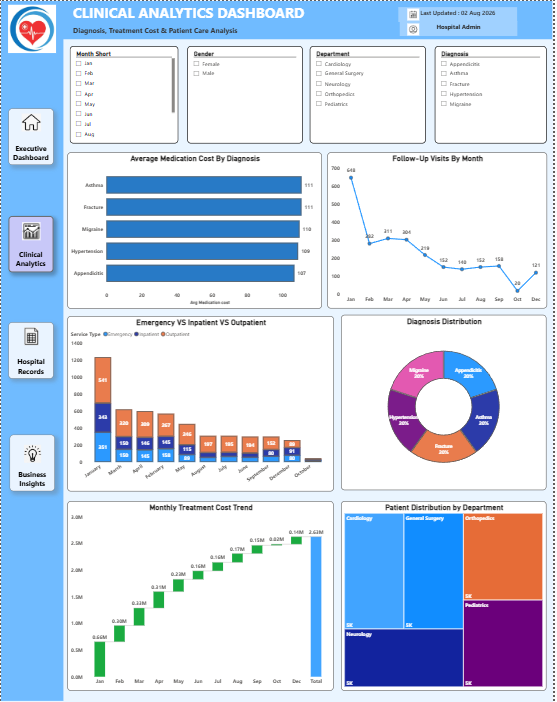

This screenshot's page, from the dashboard's own definition file:
{"tool":"powerbi","page":{"name":"Clinical Analytics","canvas":[1470,1870],"ordinal":1},"visuals":[{"type":"group","id":"g1","title":"Group 1","box":[184,120,1270,260],"z":0,"group":"g3"},{"type":"slicer","fields":{"Values":["Date Table.Month Short"]},"box":[184,120,290,260],"z":0,"group":"g1"},{"type":"clusteredBarChart","title":"Average Medication Cost By Diagnosis","fields":{"Category":["diagnoses.Diagnosis"],"Y":["DAX Measures.Avg Medication cost"]},"box":[177.4,403.2,679,417.7],"z":0,"group":"g2"},{"type":"group","id":"g2","title":"Group 2","box":[0,0,1470,1866.7],"z":1000,"group":"g3"},{"type":"shape","box":[0,80,166.7,1786.7],"z":1000,"group":"g2"},{"type":"slicer","fields":{"Values":["providers.Gender"]},"box":[495.7,120,308.1,259.7],"z":1000,"group":"g1"},{"type":"shape","box":[0,0,1470,102],"z":2000,"group":"g2"},{"type":"slicer","fields":{"Values":["departments.Department"]},"box":[825.5,120,309.7,259.7],"z":2000,"group":"g1"},{"type":"slicer","fields":{"Values":["diagnoses.Diagnosis"]},"box":[1157,120,298.4,259.7],"z":3000,"group":"g1"},{"type":"waterfallChart","title":"Monthly Treatment Cost Trend","fields":{"Category":["Date Table.Month Short"],"Y":["DAX Measures.Total Treatment Cost"]},"box":[176,1332,710,506],"z":3000,"group":"g2"},{"type":"textbox","box":[177.1,0,747.1,72.9],"z":4000,"group":"g2"},{"type":"donutChart","title":"Diagnosis Distribution","fields":{"Y":["DAX Measures.Total Patients"],"Category":["diagnoses.Diagnosis"]},"box":[906,838,548,468],"z":5000,"group":"g2"},{"type":"textbox","box":[176.7,60,571.7,41.7],"z":6000,"group":"g2"},{"type":"treemap","title":"Patient Distribution by Department","fields":{"Values":["DAX Measures.Total Patients"],"Group":["departments.Department"]},"box":[906,1332,548,506],"z":7000,"group":"g2"},{"type":"image","box":[8.6,8.6,145.7,128.6],"z":8000,"group":"g2"},{"type":"columnChart","title":"Emergency VS Inpatient VS Outpatient","fields":{"Category":["Date Table.Month"],"Series":["visits.Service Type"],"Y":["DAX Measures.Total Visits"]},"box":[177.4,838.7,711.3,467.7],"z":9000,"group":"g2"},{"type":"lineChart","title":"Follow-Up Visits By Month","fields":{"Y":["DAX Measures.Follow-Up Visits"],"Category":["Date Table.Month Short"]},"box":[868.3,403.3,586.7,416.7],"z":10000,"group":"g2"},{"type":"actionButton","box":[20,285,120,150],"z":11000,"group":"g2"},{"type":"cardVisual","fields":{"Data":["DAX Measures.Last Refresh"]},"box":[1043.3,0,350,73.3],"z":12000,"group":"g2"},{"type":"actionButton","box":[20,571.7,120,150],"z":13000,"group":"g2"},{"type":"image","box":[51.7,300,55,48.3],"z":14000,"group":"g2"},{"type":"image","box":[51.7,588.3,55,48.3],"z":15000,"group":"g2"},{"type":"actionButton","box":[21.7,1156.7,120,150],"z":16000,"group":"g2"},{"type":"actionButton","box":[20,855,120,150],"z":17000,"group":"g2"},{"type":"image","box":[56.7,1183.3,55,48.3],"z":18000,"group":"g2"},{"type":"image","box":[53.3,870,55,48.3],"z":19000,"group":"g2"},{"type":"textbox","box":[1061.7,53.3,313.3,40],"z":20000,"group":"g2"},{"type":"image","box":[1083.3,20,31.7,31.7],"z":21000,"group":"g2"},{"type":"image","box":[1083.3,55,31.7,38.3],"z":22000,"group":"g2"},{"type":"group","id":"g3","title":"Group 3","box":[0,0,1470,1866.7],"z":23002}]}

Visuals, with their boxes on the page's 1470x1870 design canvas (x1, y1, x2, y2). These are canvas units, not pixel positions in the 557x702 screenshot, which may show the page scaled, cropped or inside an application window:
"Group 1" group: 184:120:1454:380
slicer - Date Table.Month Short: 184:120:474:380
"Average Medication Cost By Diagnosis" clusteredBarChart: 177:403:856:821
"Group 2" group: 0:0:1470:1867
shape: 0:80:167:1867
slicer - providers.Gender: 496:120:804:380
shape: 0:0:1470:102
slicer - departments.Department: 826:120:1135:380
slicer - diagnoses.Diagnosis: 1157:120:1455:380
"Monthly Treatment Cost Trend" waterfallChart: 176:1332:886:1838
textbox: 177:0:924:73
"Diagnosis Distribution" donutChart: 906:838:1454:1306
textbox: 177:60:748:102
"Patient Distribution by Department" treemap: 906:1332:1454:1838
image: 9:9:154:137
"Emergency VS Inpatient VS Outpatient" columnChart: 177:839:889:1306
"Follow-Up Visits By Month" lineChart: 868:403:1455:820
actionButton: 20:285:140:435
cardVisual - DAX Measures.Last Refresh: 1043:0:1393:73
actionButton: 20:572:140:722
image: 52:300:107:348
image: 52:588:107:637
actionButton: 22:1157:142:1307
actionButton: 20:855:140:1005
image: 57:1183:112:1232
image: 53:870:108:918
textbox: 1062:53:1375:93
image: 1083:20:1115:52
image: 1083:55:1115:93
"Group 3" group: 0:0:1470:1867
